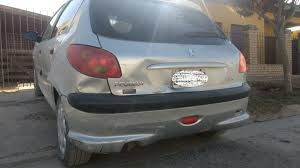car: (31, 1, 253, 167)
